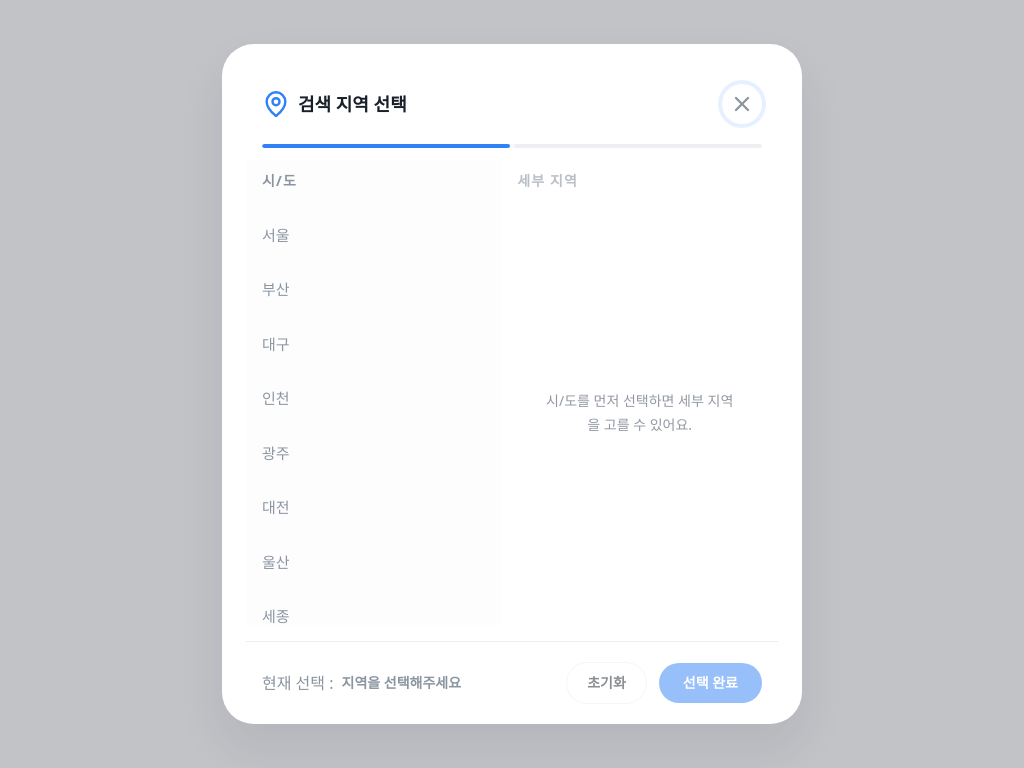
Test: RegionSelectDialog › 시도를 고르면 세부 지역을 바로 선택할 수 있다
Click the button "서울".
click(370, 235)  # box top-left (246, 210), bottom-right (493, 260)
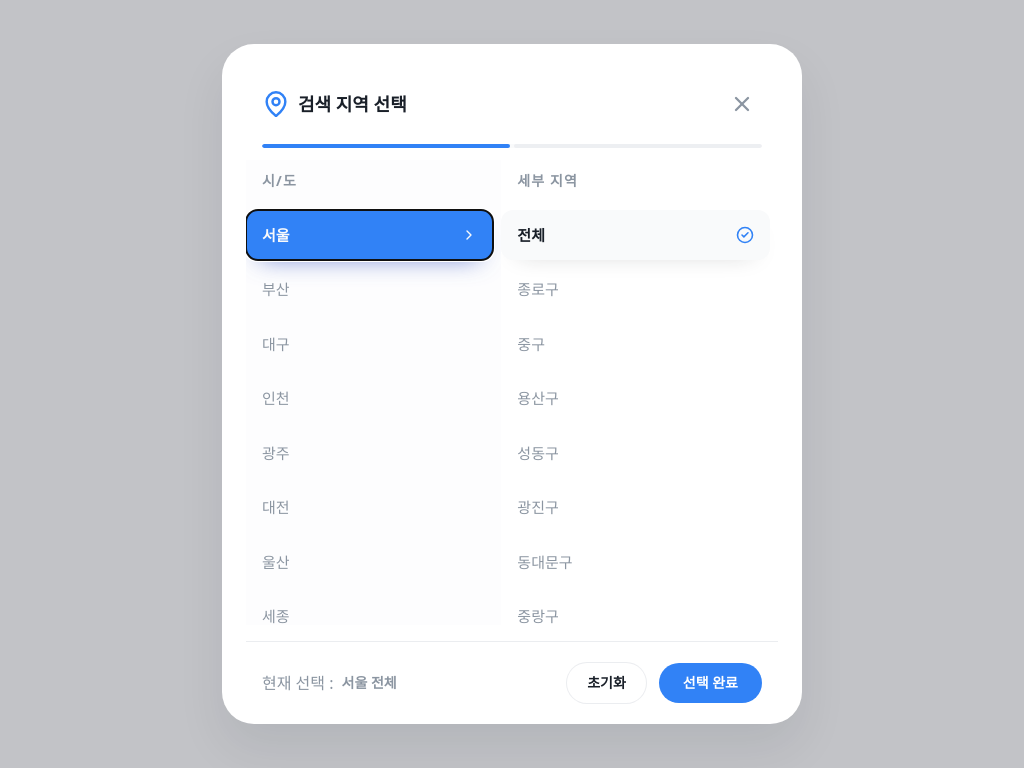
Now the text "서울 전체" is shown, box top-left (342, 673), bottom-right (397, 693)
Now the button "선택 완료" is enabled, box top-left (659, 663), bottom-right (762, 703)
